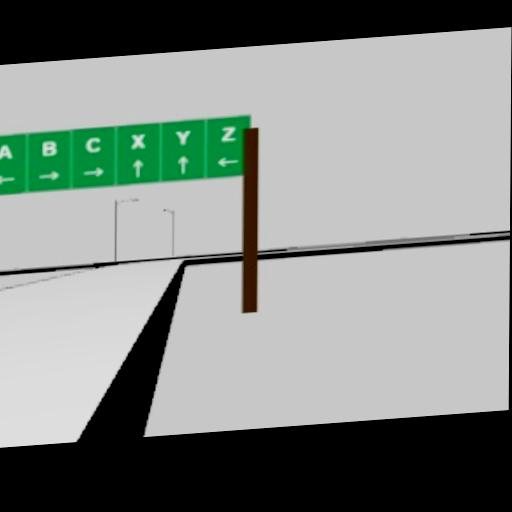A: (0, 139, 13, 160)
B: (40, 138, 59, 158)
C: (84, 134, 103, 154)
Left: (217, 155, 241, 167), (0, 171, 16, 184)
Right: (37, 168, 63, 182), (82, 164, 106, 178)
Straight: (131, 158, 144, 180), (177, 152, 189, 172)
X: (130, 129, 148, 150)
Y: (175, 128, 193, 148)
Z: (220, 123, 238, 145)
